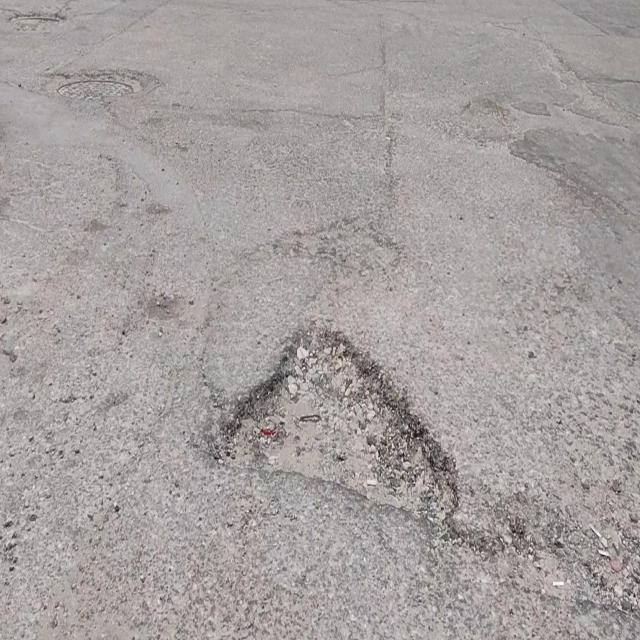Potholes: (212, 321, 459, 540)
